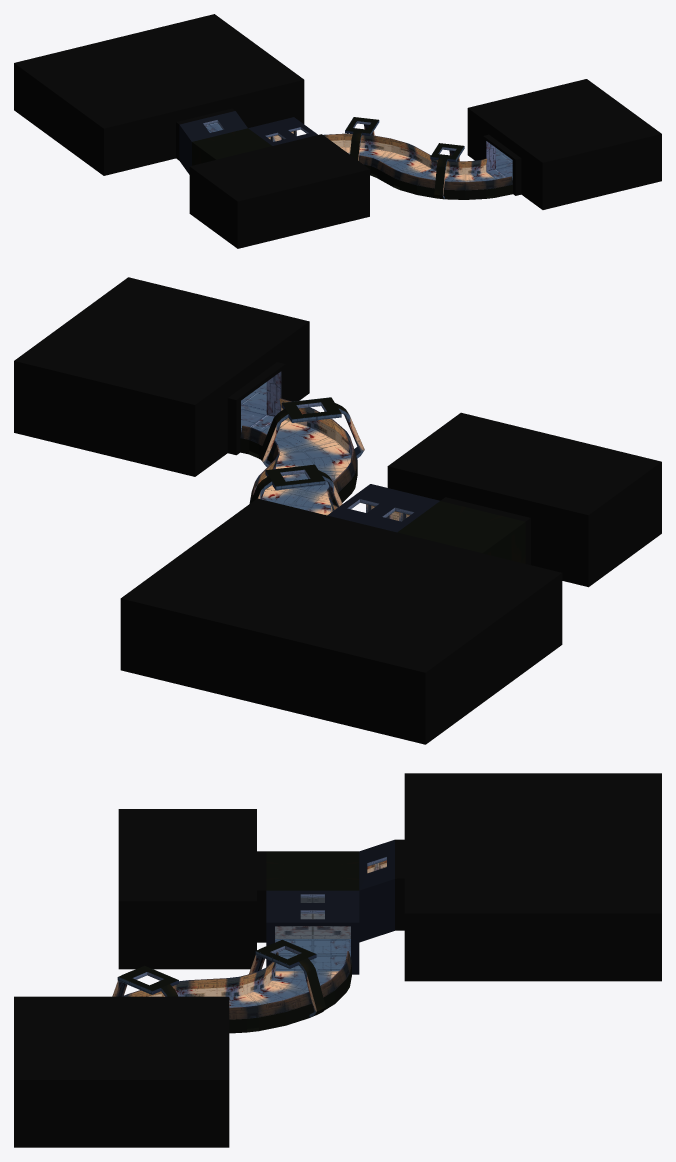
Rendered from space_station.glb.
3 renders of one model, top to bottom at view 1: azimuth 30°, elevation 25°; view 2: azimuth 150°, elevation 25°; view 3: azimuth 270°, elevation 25°, orthographic. The views are drawn at different scales.
Visible parts, largest first — view 1: map; view 2: map; view 3: map.
Part boxes in pixels (x1,y1,x2,y2): map: [14, 14, 661, 248]; map: [14, 277, 661, 744]; map: [14, 773, 661, 1147].
Size of the model in its own units: 53.28 by 6.71 by 49.5.
7 materials, 7 textured.
